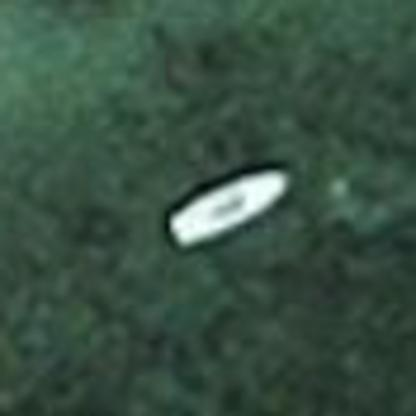ship: (149, 156, 302, 258)
